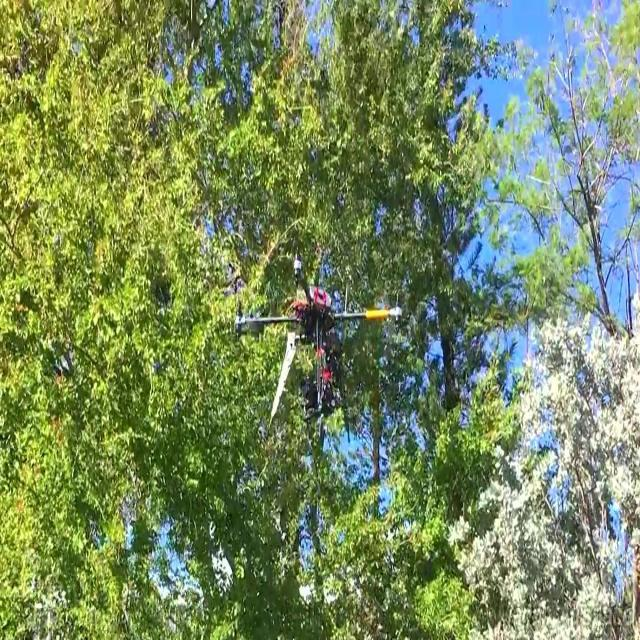drone: (231, 249, 409, 435)
